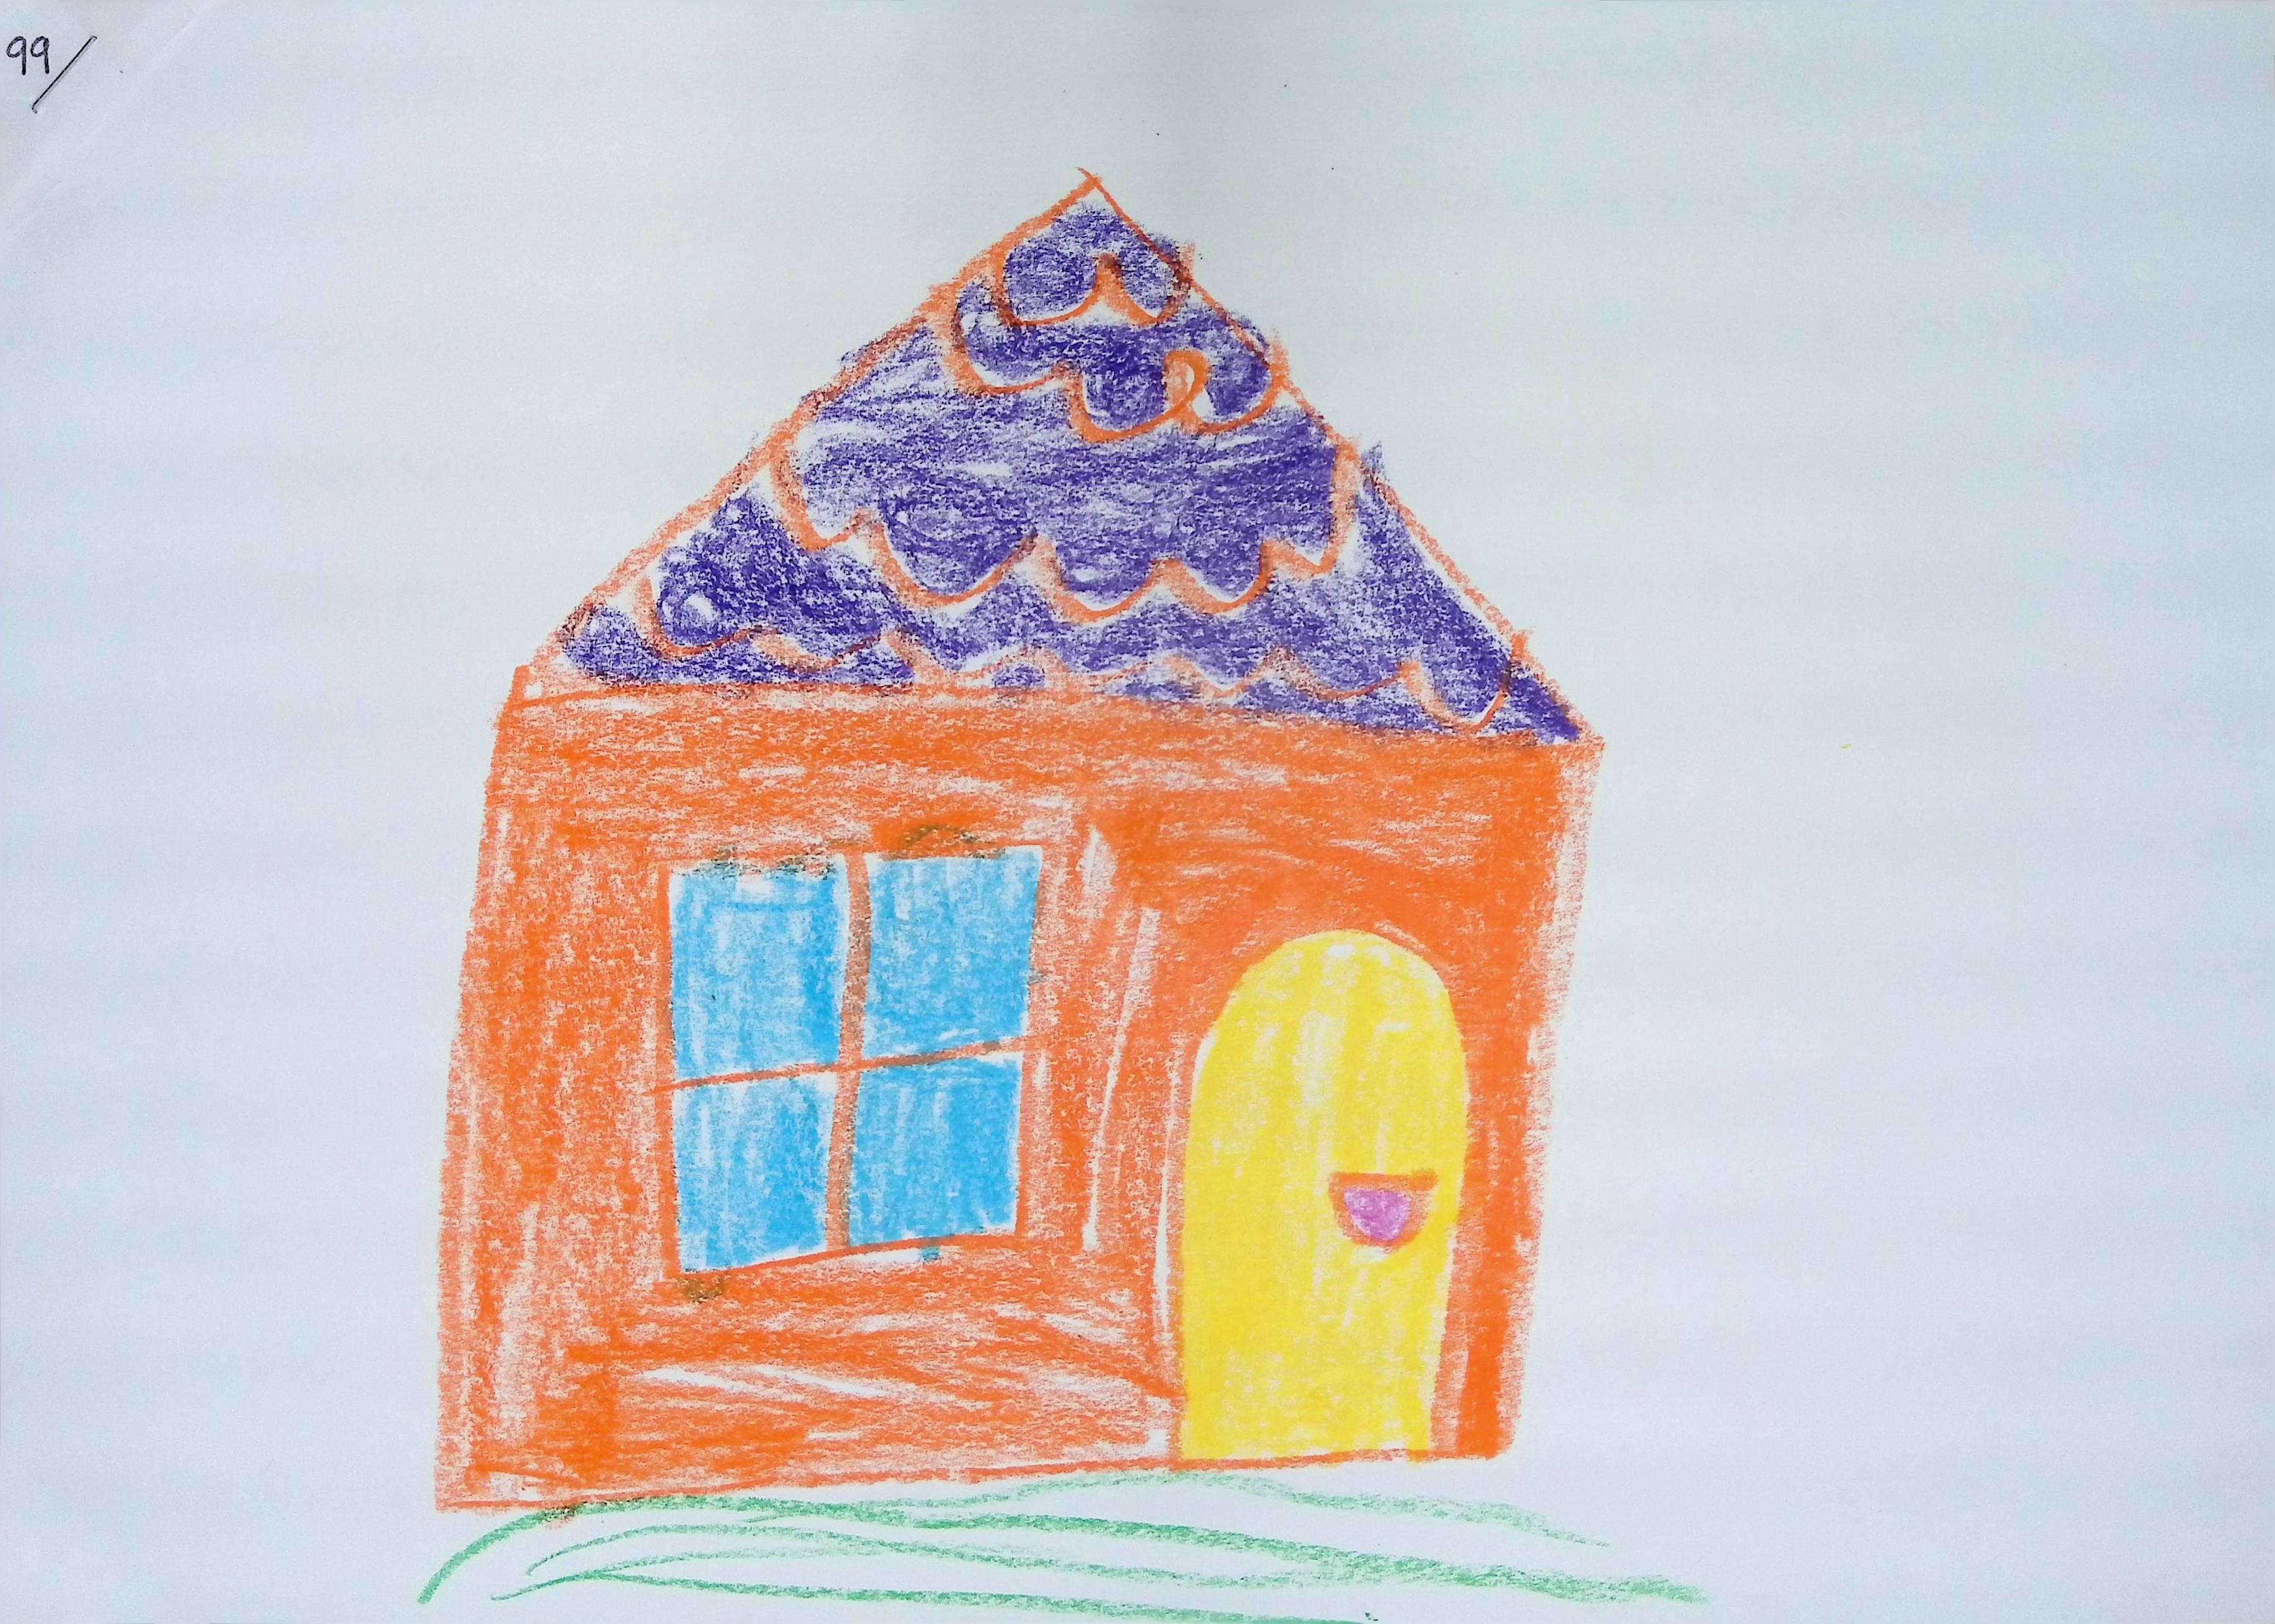door: (1181, 930, 1470, 1461)
house: (434, 174, 1600, 1508)
roof: (548, 172, 1585, 742)
wall: (436, 677, 1599, 1506)
window: (669, 847, 1040, 1272)
